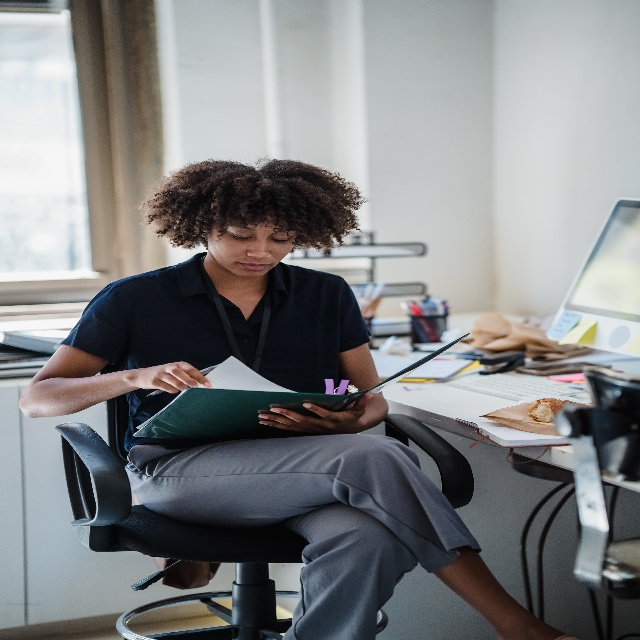Sin_guantes: (255, 394, 372, 436), (137, 361, 210, 398)
